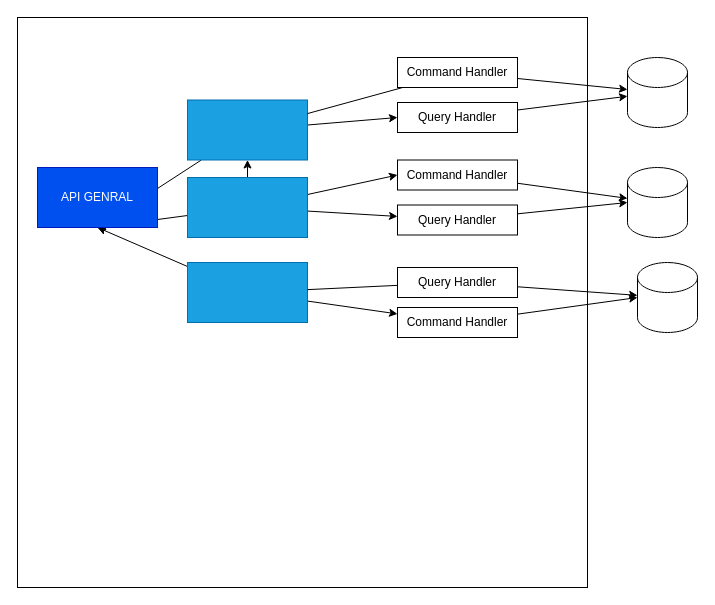
Image size: 715x605. Some labels were removed from this diagram. The shapes that lost their labels are listed below. From the top down, each one's centre as x and y in pixels, then its label:
(247,129): Tarjetas - API
(247,207): Pagos -API
(247,292): Transacciones - API
